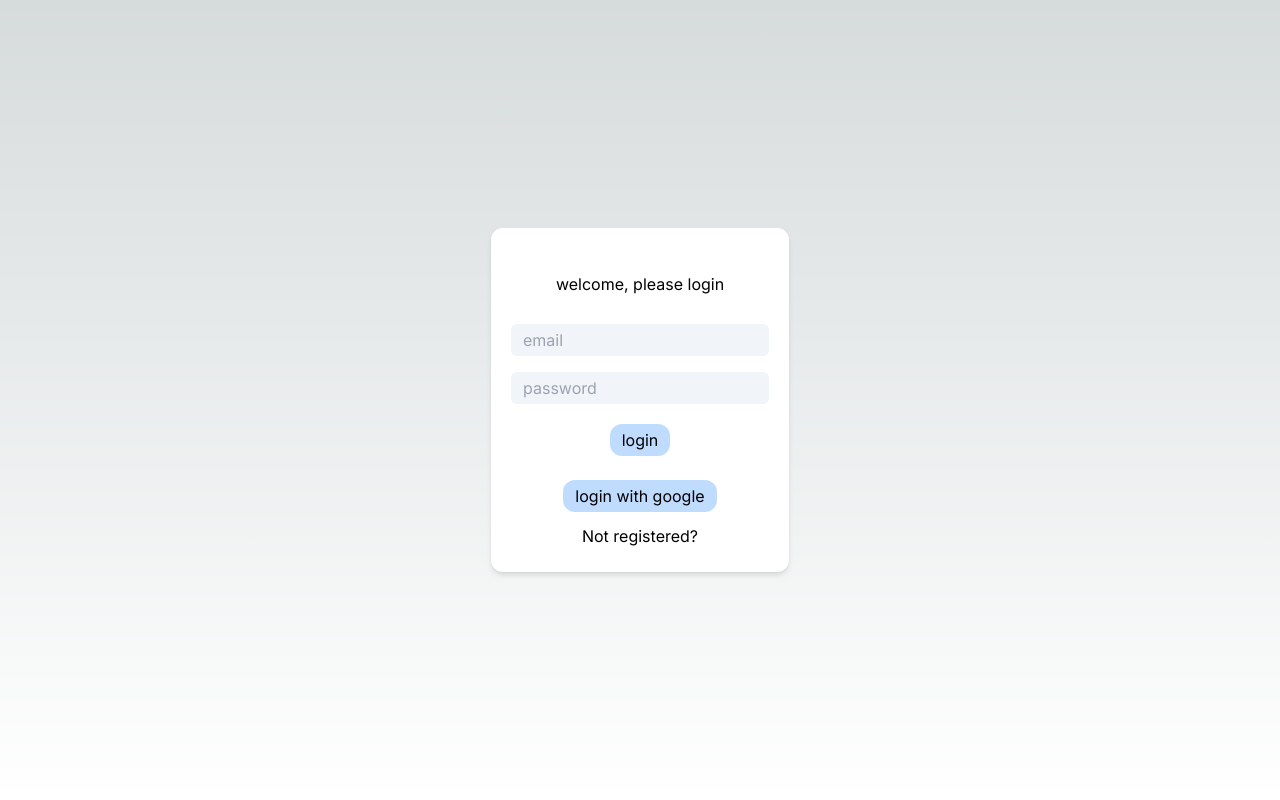
Test: Authentication Pages › login fail
Type "fake@email.com" into the field with id "email-input" at [640, 340], box x1=511 y1=324 x2=769 y2=356
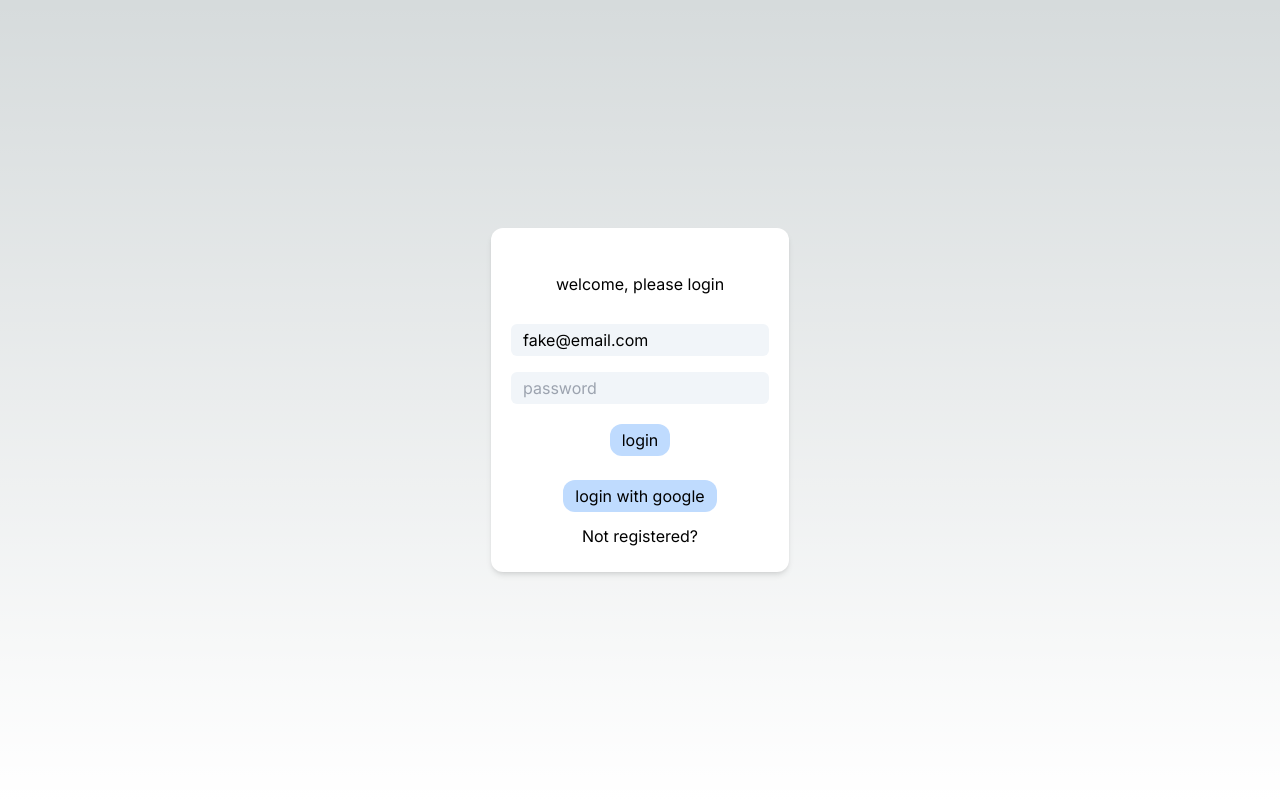
Type "fakepass" into the password field with placeholder "password" at [640, 388], box x1=511 y1=372 x2=769 y2=404
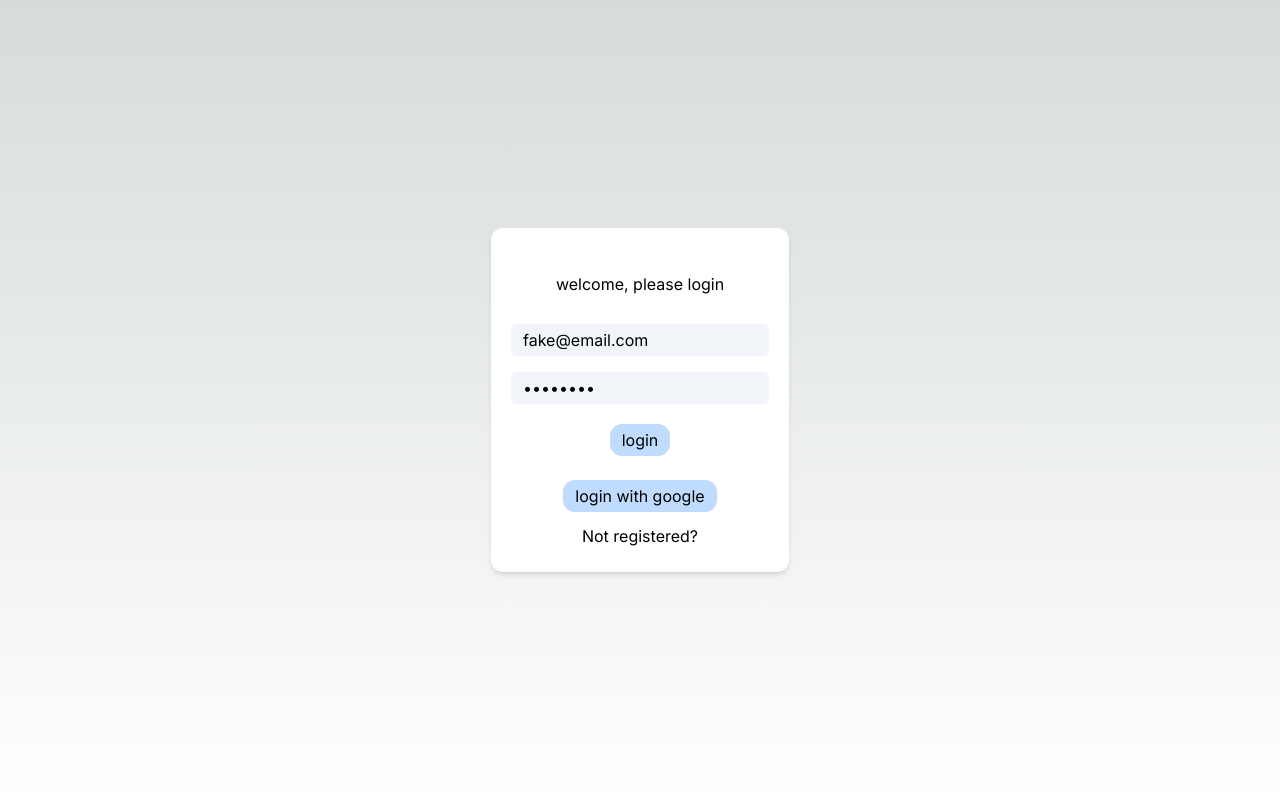
Click the button with id "login-btn" at [641, 440], box x1=610 y1=424 x2=671 y2=456
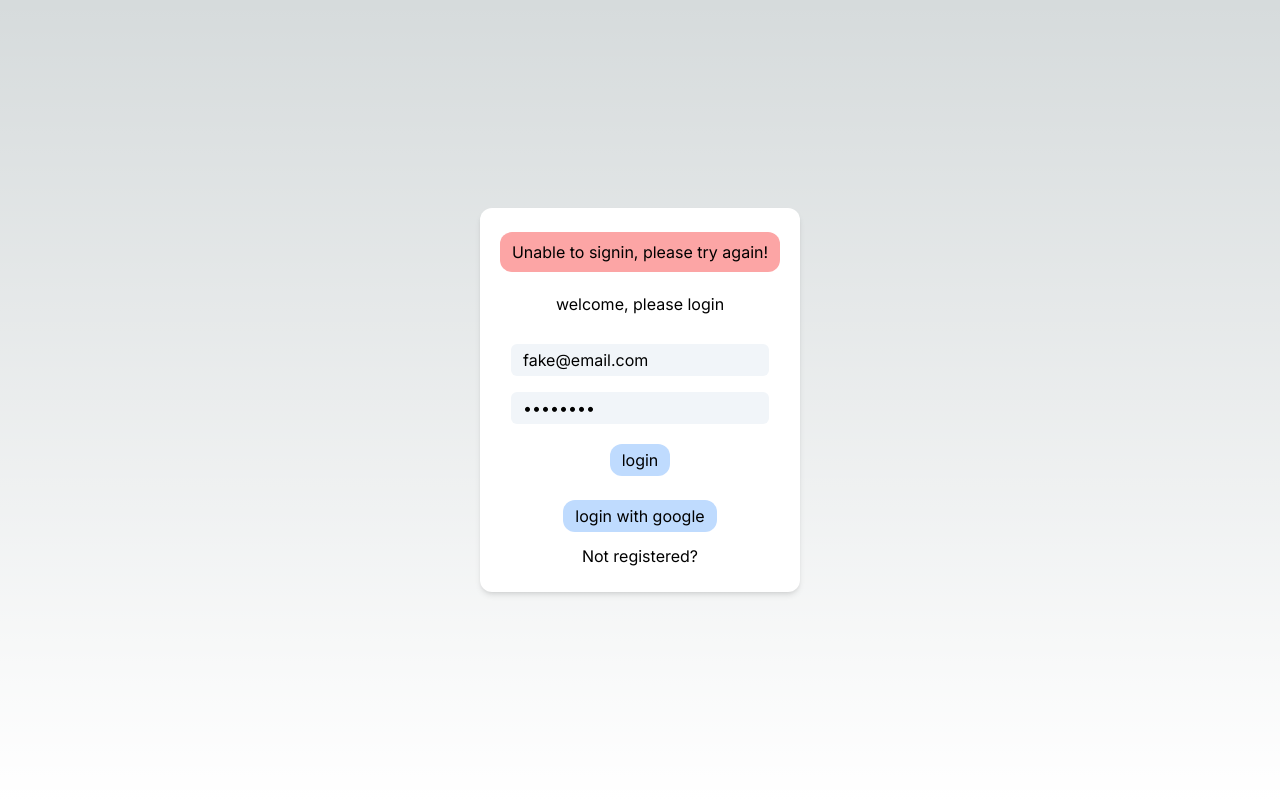
Expected: the text "Unable to signin, please try again!" is shown, x1=500 y1=232 x2=780 y2=272
